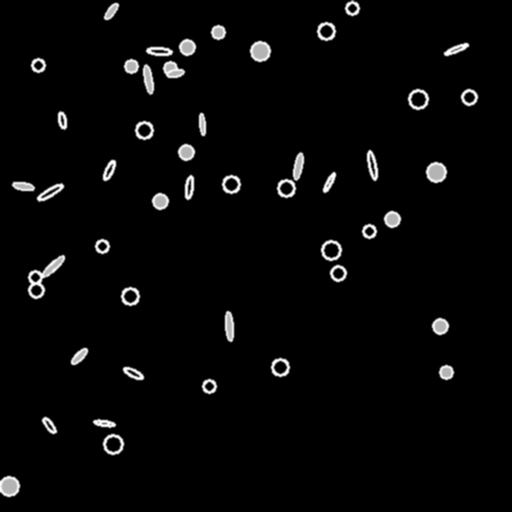pseudomonas: (40, 253, 66, 279), (36, 182, 64, 202), (69, 346, 89, 366), (443, 42, 469, 56), (142, 64, 154, 94), (122, 365, 144, 381), (366, 151, 378, 179), (292, 152, 304, 180), (103, 1, 119, 21), (102, 159, 116, 181), (41, 416, 57, 434), (322, 172, 336, 192), (224, 312, 234, 340), (184, 175, 194, 199), (146, 47, 172, 55), (13, 181, 33, 191), (166, 68, 184, 78), (94, 419, 114, 427), (57, 112, 67, 128), (199, 114, 205, 134)
synechocystis: (104, 435, 122, 453), (0, 477, 18, 495), (409, 90, 427, 108), (322, 241, 340, 259), (251, 42, 269, 60), (427, 163, 445, 181), (223, 176, 239, 192), (136, 122, 152, 138), (272, 359, 288, 375), (122, 288, 138, 304), (318, 23, 334, 39), (278, 180, 294, 196), (179, 145, 193, 159), (180, 40, 194, 54), (29, 283, 43, 297), (385, 212, 399, 226), (433, 319, 447, 333), (462, 90, 476, 104), (153, 194, 167, 208), (331, 266, 345, 280), (32, 59, 44, 71), (29, 271, 41, 283), (346, 2, 358, 14), (96, 240, 108, 252), (125, 60, 137, 72), (363, 225, 375, 237), (164, 62, 176, 74), (212, 26, 224, 38), (440, 366, 452, 378), (203, 380, 215, 392)
